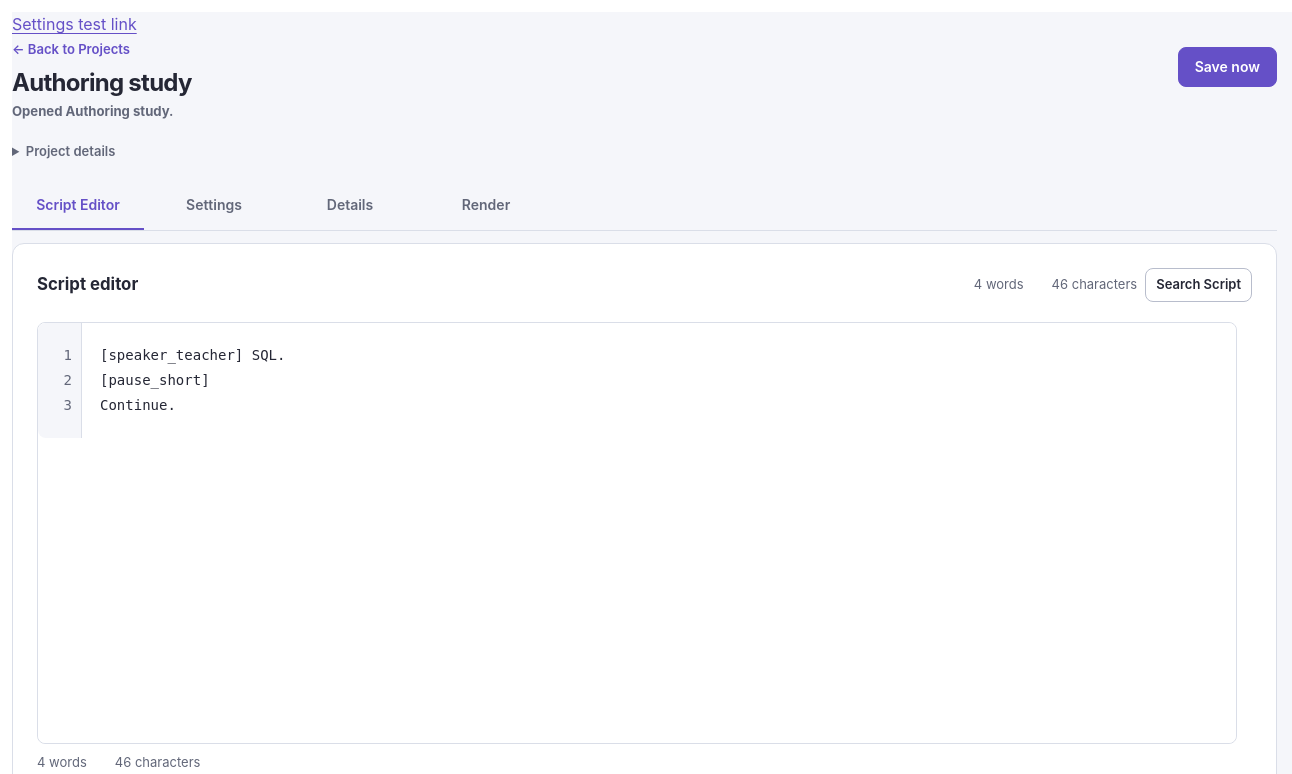
Test case: Projects workbench › does not autosave discovery reconciliation when the user has not edited the project
Click the tab "Settings" at x=214, y=206, box [148,182,280,230]
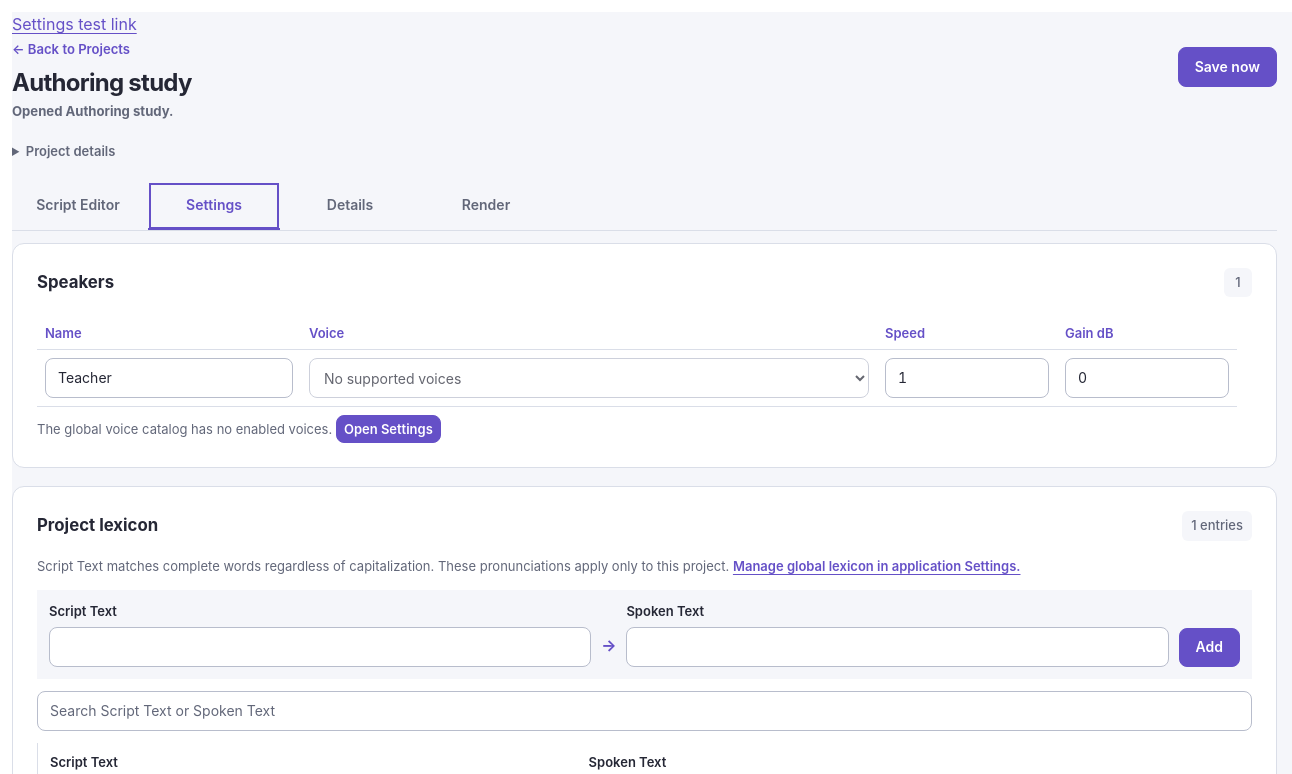
expect the dropdown named "Voice for speaker teacher" is disabled: met, box [309,358,869,398]
expect the dropdown named "Voice for speaker teacher" shows "No supported voices": met, box [309,358,869,398]
expect the text "The global voice catalog has no enabled voices." is shown: met, box [37,421,332,437]
